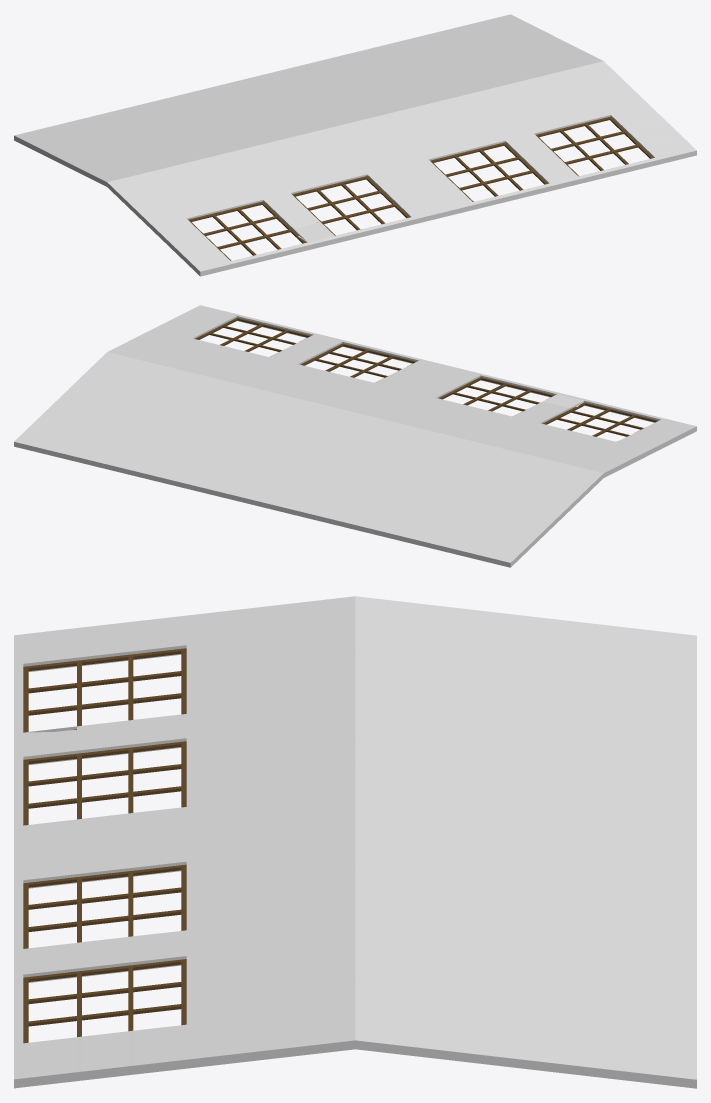
File: Side_Roof.fbx
The picture shows the model from 3 angles, top to bottom: view 1: azimuth 30°, elevation 25°; view 2: azimuth 150°, elevation 25°; view 3: azimuth 270°, elevation 25°; orthographic projection. The views are drawn at different scales.
Visible parts, largest first — view 1: Cube.007; view 2: Cube.007; view 3: Cube.007.
Part boxes in pixels (bbox=[...]): Cube.007: bbox=[14, 14, 696, 276]; Cube.007: bbox=[14, 305, 696, 567]; Cube.007: bbox=[14, 596, 696, 1088].
Size of the model in its own units: 1700 by 86.28 by 1105.
